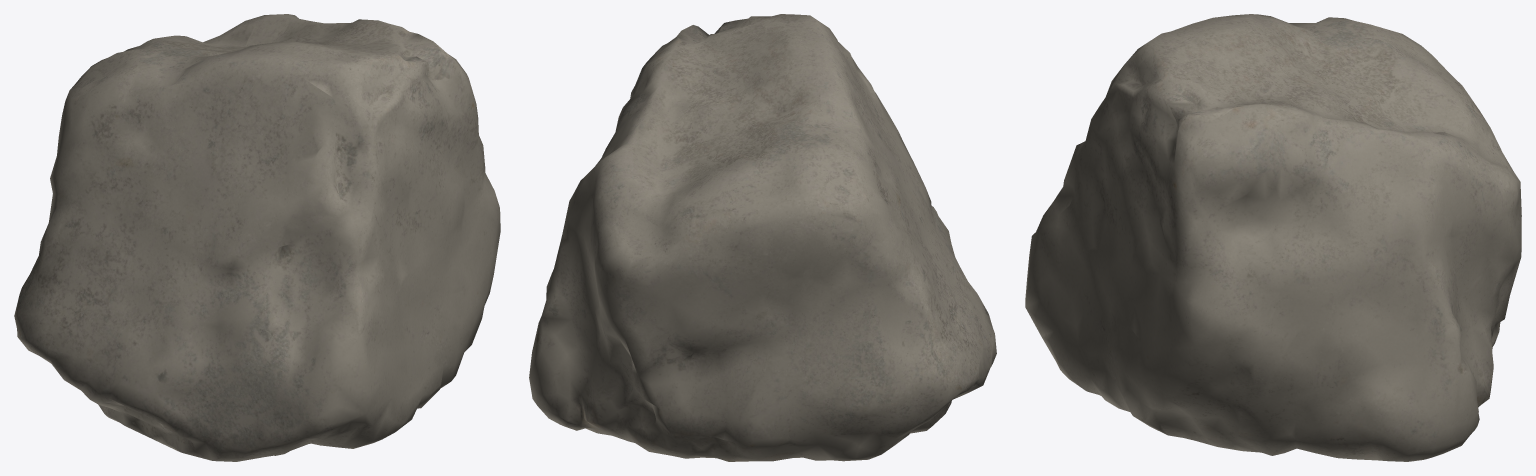
The model's file is V_moon_rock_02.glb.
3 views of the same model, side by side, from view 1: azimuth 30°, elevation 25°; view 2: azimuth 150°, elevation 25°; view 3: azimuth 270°, elevation 25° (orthographic). The views are drawn at different scales.
Visible parts, largest first — view 1: V_moon_rock_02; view 2: V_moon_rock_02; view 3: V_moon_rock_02.
Boxes of the visible parts, x1,y1,x2,y2 form: V_moon_rock_02: (14, 14, 500, 461); V_moon_rock_02: (529, 14, 996, 461); V_moon_rock_02: (1025, 14, 1521, 461).
Size of the model in its own units: 0.2465 by 0.2019 by 0.2513.
Materials: 1 (1 with a texture image).
